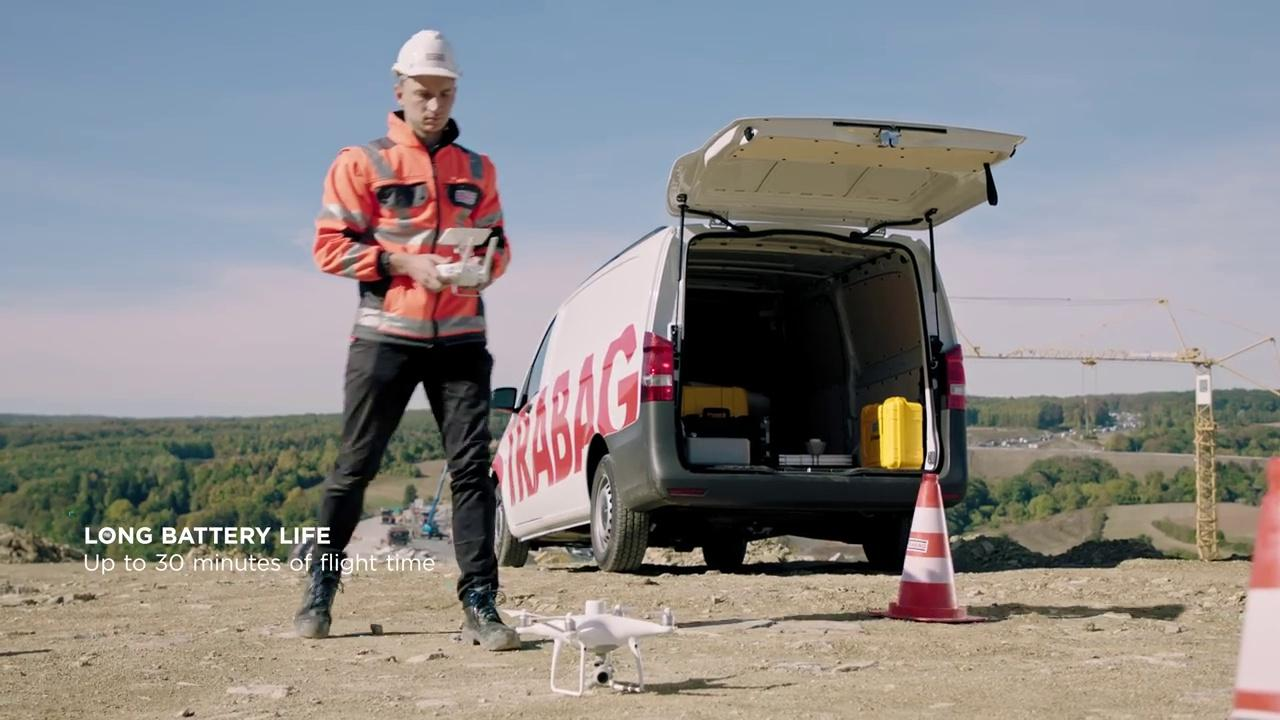drone: (505, 599, 687, 691)
